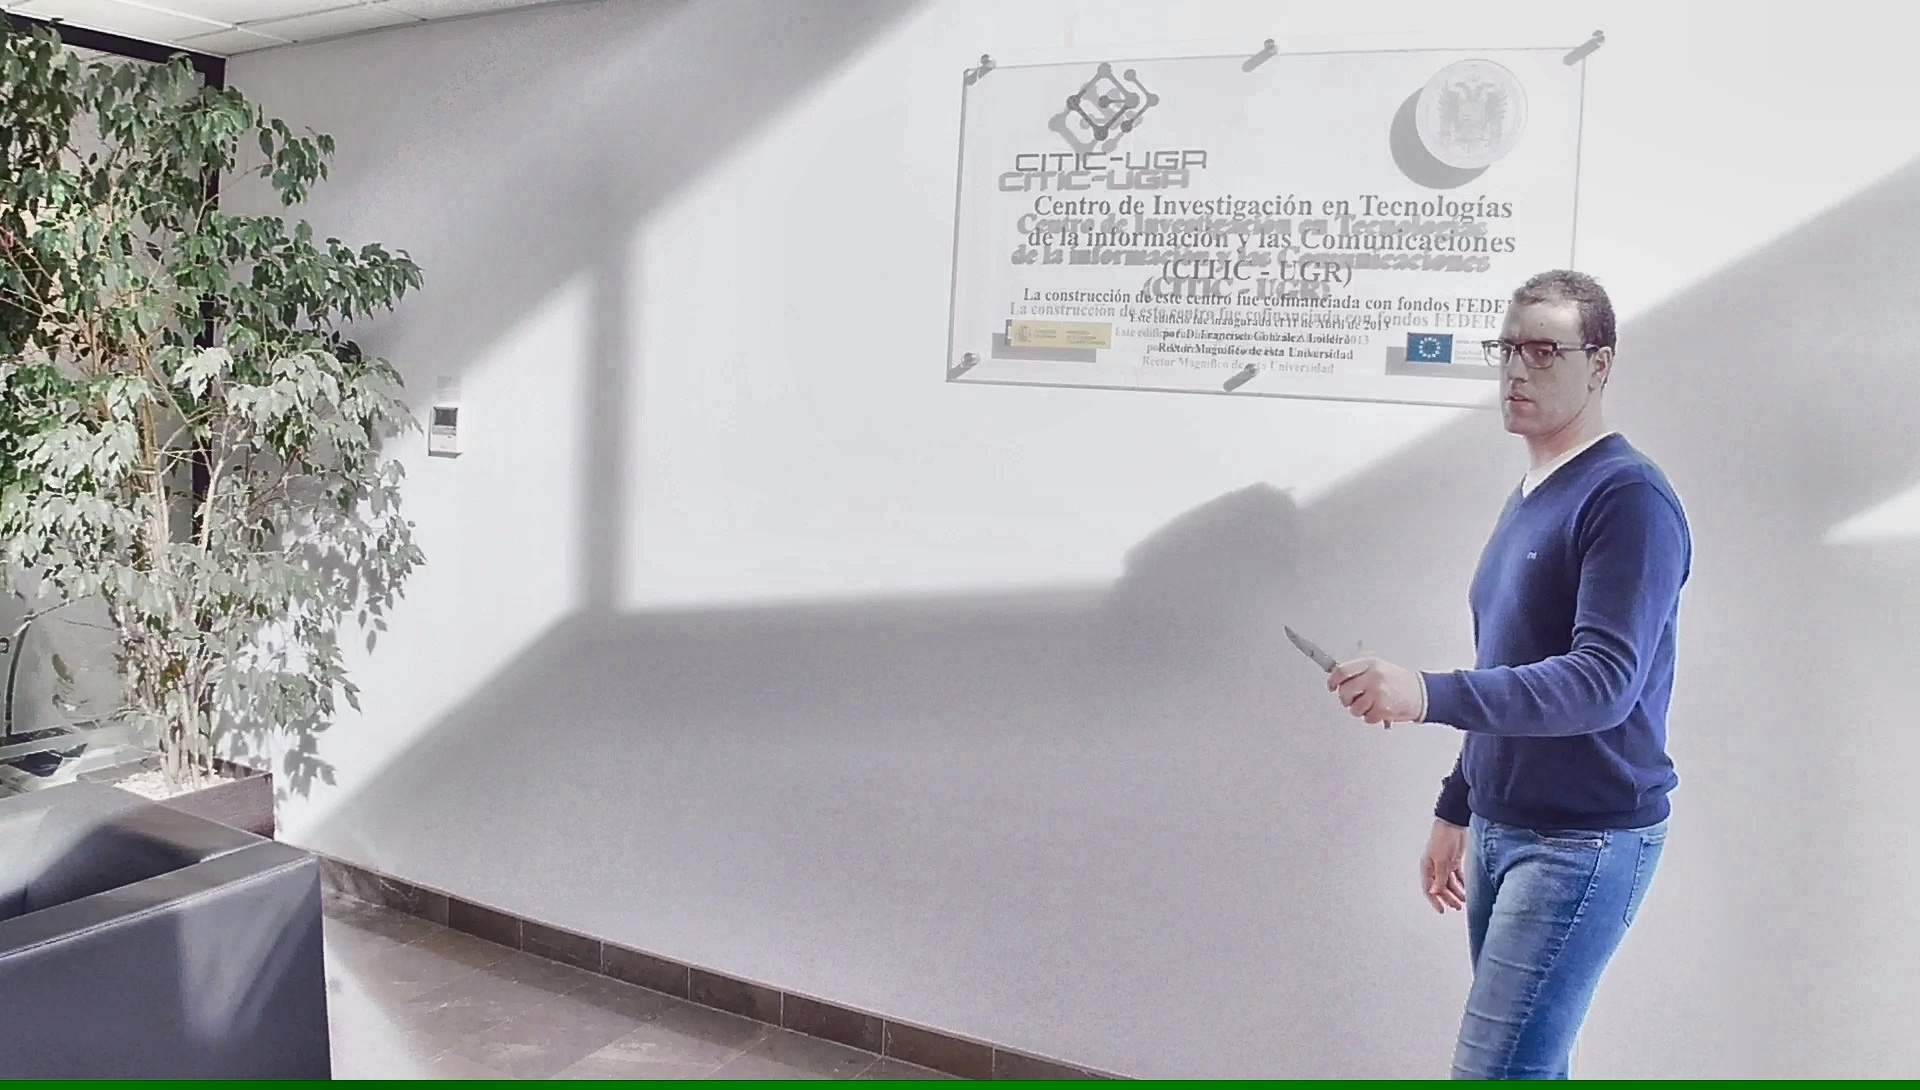knife: (1276, 613, 1396, 734)
